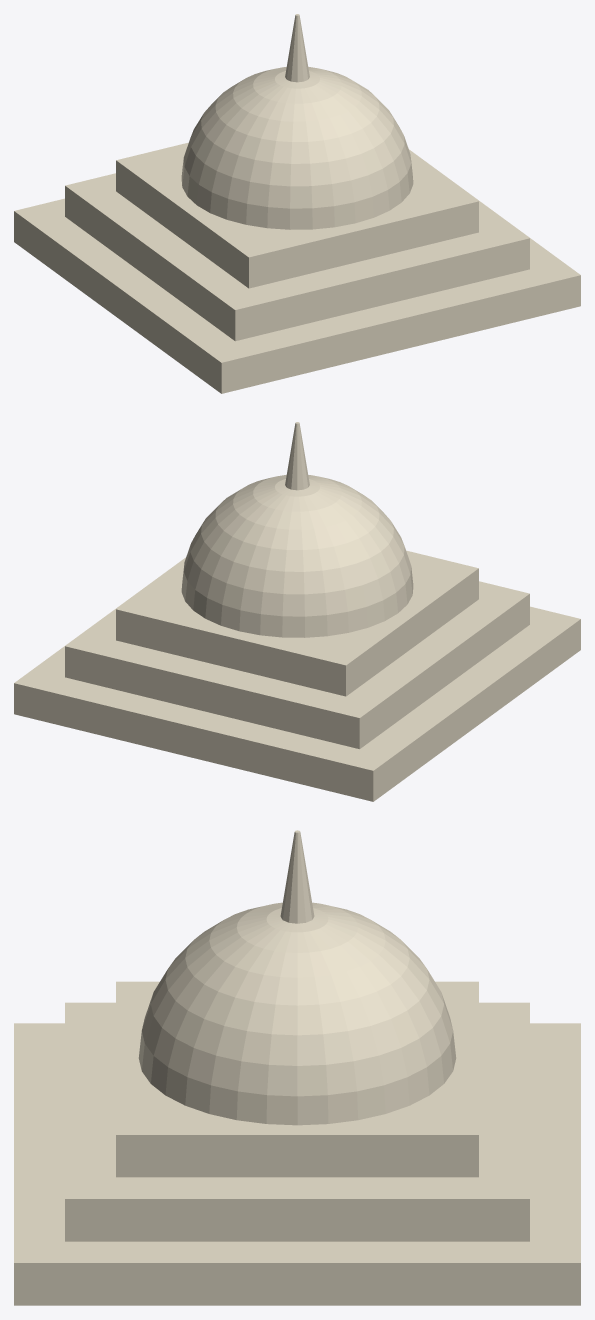
Rendered from place-jetavanaramaya.glb.
3 views of the same model, one above another, from view 1: azimuth 30°, elevation 25°; view 2: azimuth 150°, elevation 25°; view 3: azimuth 270°, elevation 25° (orthographic). The views are drawn at different scales.
Visible parts, largest first — view 1: place-jetavanaramaya; view 2: place-jetavanaramaya; view 3: place-jetavanaramaya.
Part boxes in pixels (bbox=[...]): place-jetavanaramaya: bbox=[14, 14, 580, 393]; place-jetavanaramaya: bbox=[14, 422, 580, 801]; place-jetavanaramaya: bbox=[14, 830, 580, 1305].
Size of the model in its own units: 177 by 122 by 177.
